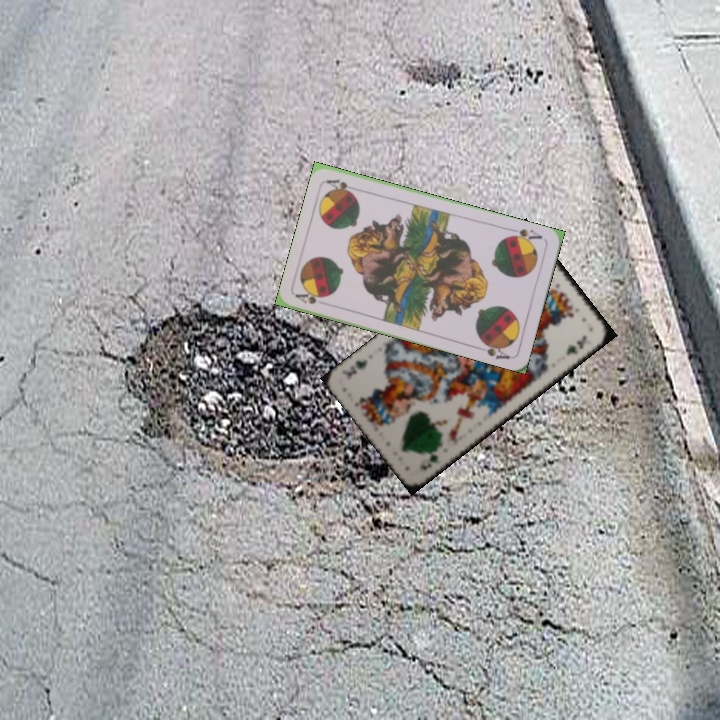GK: (417, 443, 444, 473)
SA: (505, 224, 545, 246), (292, 289, 332, 308)
